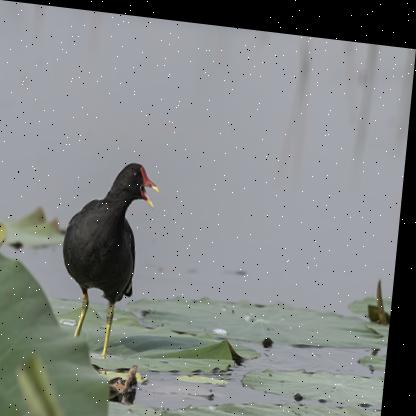Burung: (60, 152, 165, 358)
